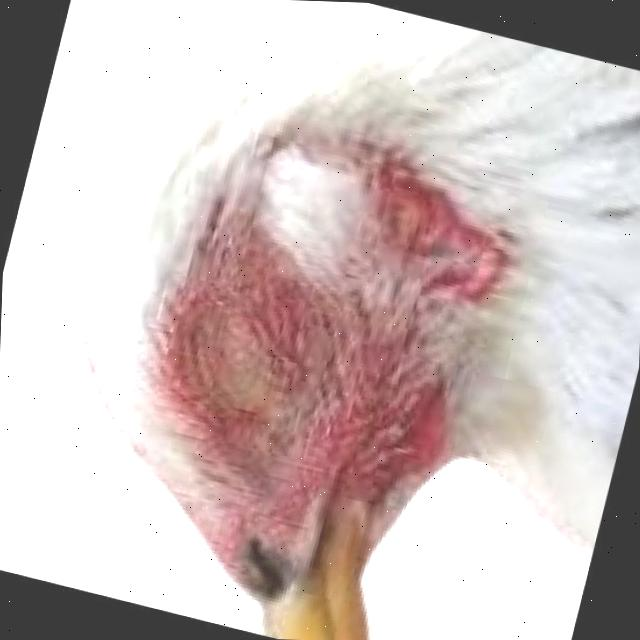Coryza: (146, 266, 321, 444)
